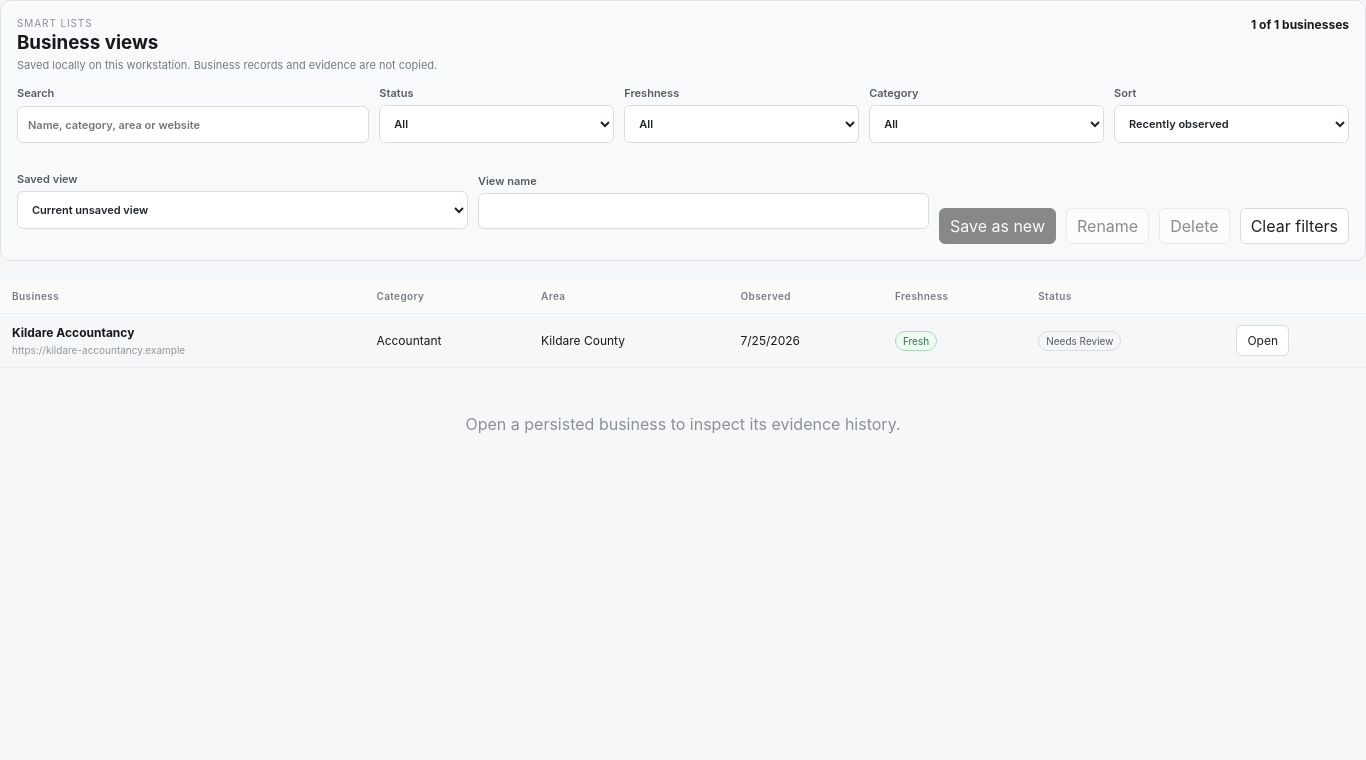
Test: BusinessWorkspace › saves an explicit qualification change
The image size is (1366, 760).
Click the button "Open".
click(1263, 340)  # box [1236,325,1289,356]
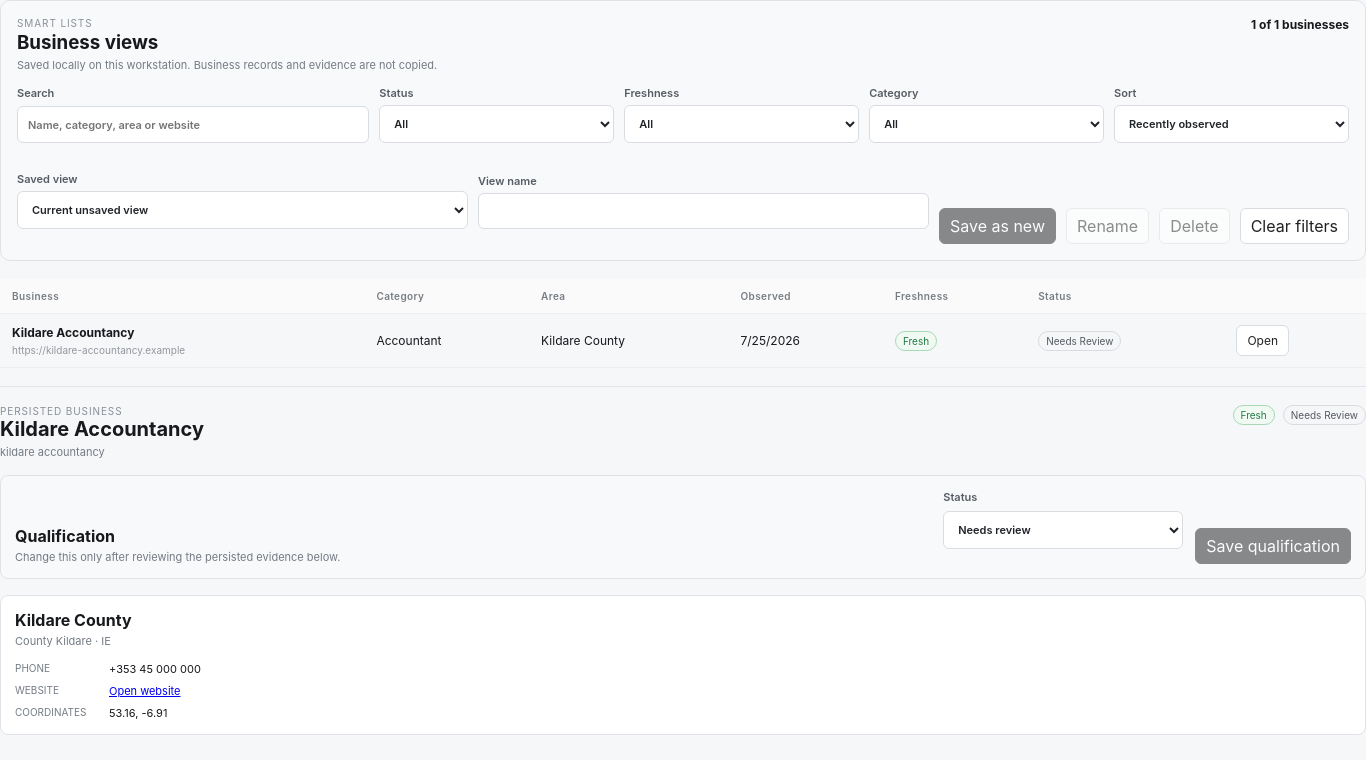
Select "Qualified" in the dropdown labelled "Status" below "Observed" at {"x": 1063, "y": 530}, box [943,511,1183,549]
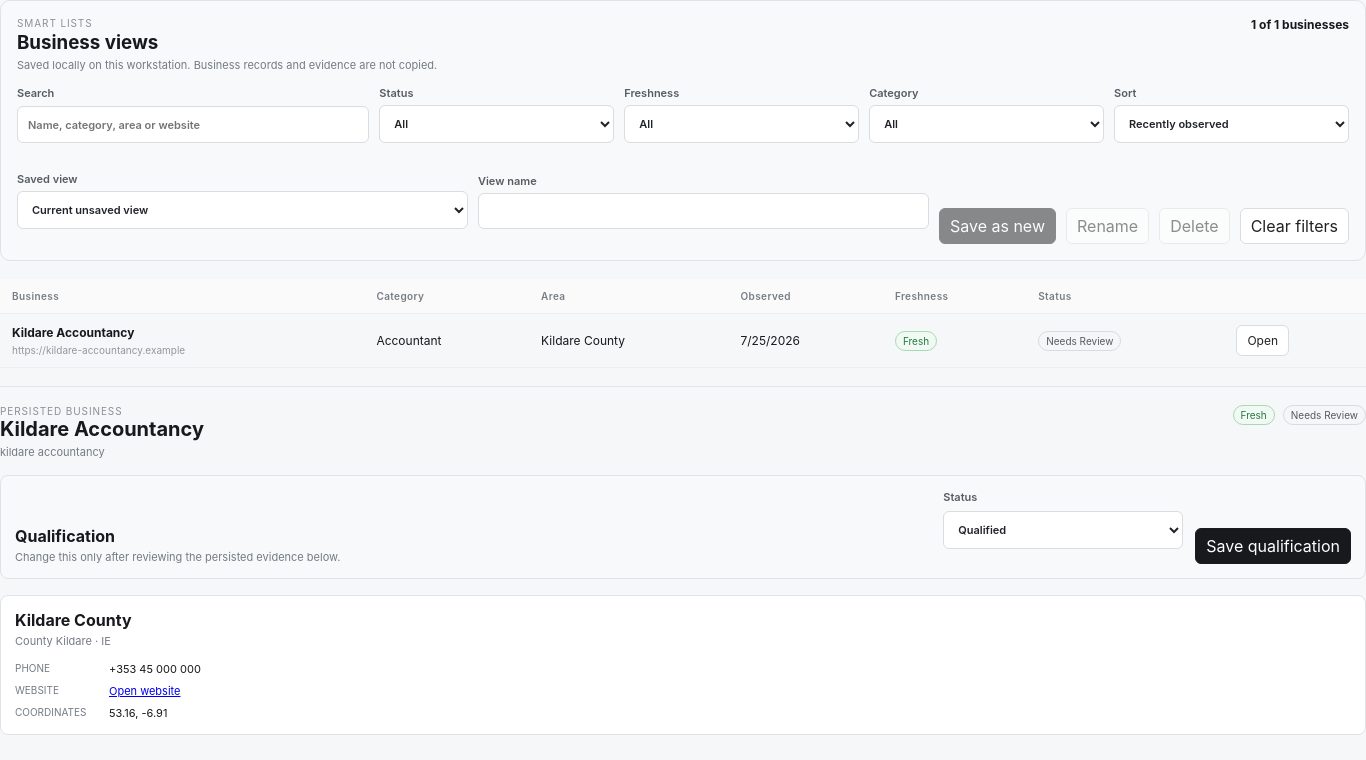
Click the button "Save qualification".
click(1273, 546)  # box [1195,528,1351,564]
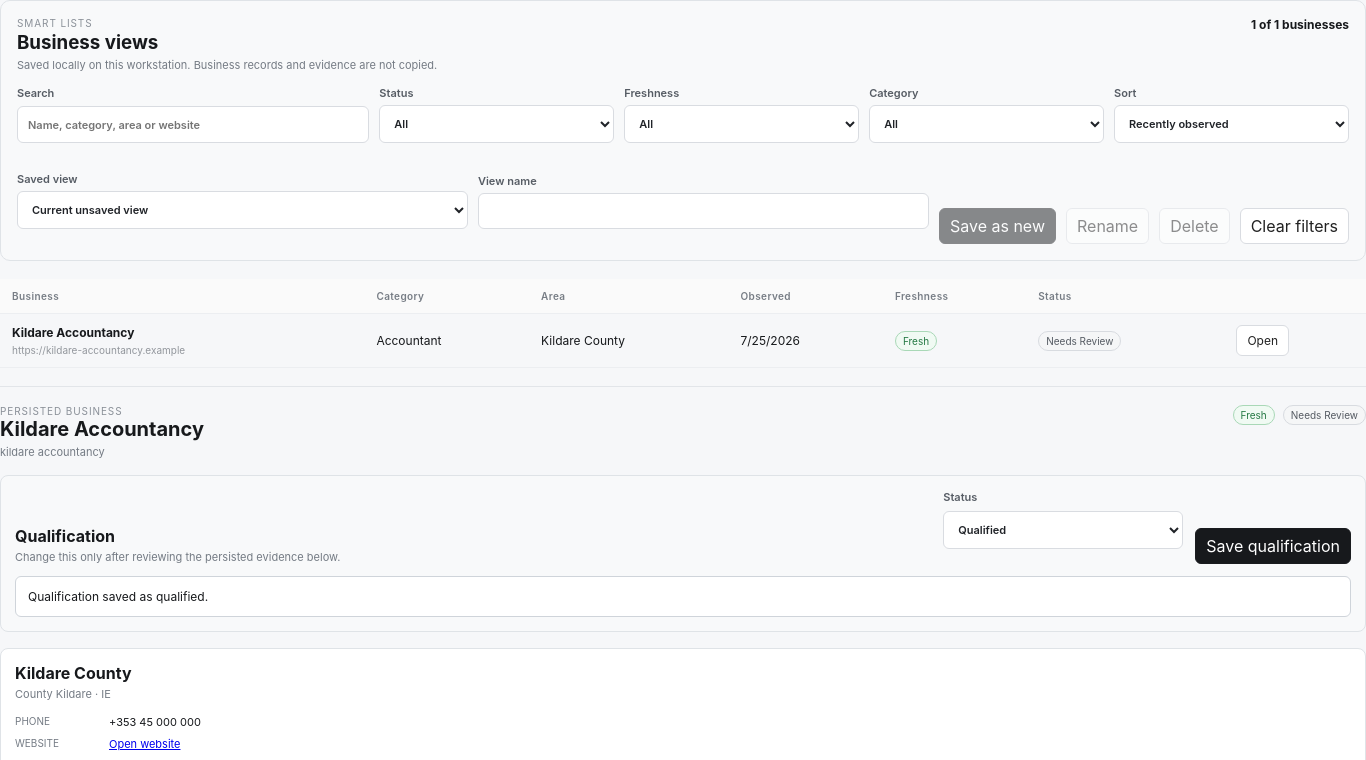
Check: the message reads "Qualification saved as qualified.", box [15,576,1351,617]
